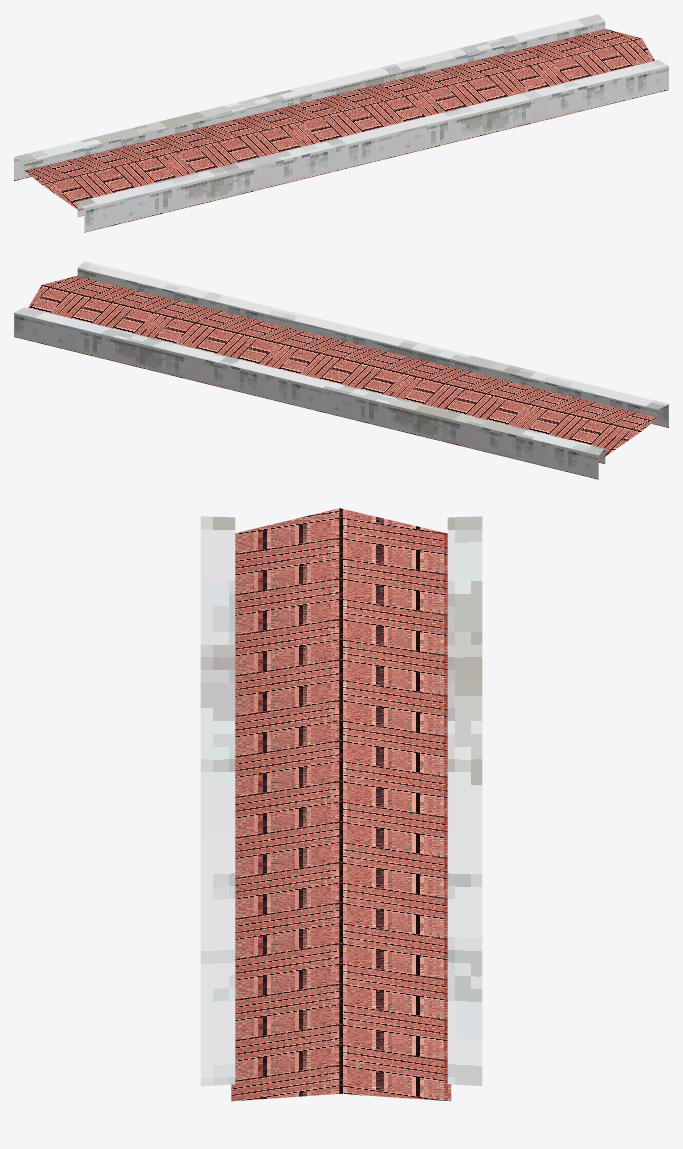
Rendered from Environment - Prop - Mdn BRK 01 M - PMMdnBRK01_M.glb.
The picture shows the model from 3 angles, top to bottom: view 1: azimuth 30°, elevation 25°; view 2: azimuth 150°, elevation 25°; view 3: azimuth 270°, elevation 25°; orthographic projection. The views are drawn at different scales.
Visible parts, largest first — view 1: PMMDNBRK01_M; view 2: PMMDNBRK01_M; view 3: PMMDNBRK01_M.
Boxes of the visible parts, x1=… form: PMMDNBRK01_M: x1=14, y1=14, x2=668, y2=232; PMMDNBRK01_M: x1=14, y1=261, x2=668, y2=479; PMMDNBRK01_M: x1=200, y1=508, x2=482, y2=1101.
Size of the model in its own units: 61.97 by 2.39 by 12.6.
1 material, 1 textured.
